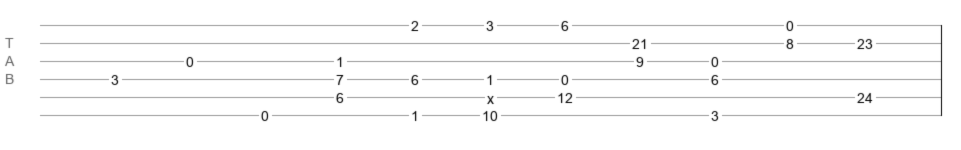0: (186, 54, 194, 64), (261, 108, 269, 118), (561, 72, 569, 82), (711, 54, 719, 64), (786, 18, 794, 28)
1: (336, 54, 344, 64), (411, 108, 419, 118), (486, 72, 494, 82)
10: (482, 108, 498, 118)
12: (557, 90, 573, 100)
2: (411, 18, 419, 28)
21: (632, 36, 648, 46)
23: (857, 36, 873, 46)
24: (857, 90, 873, 100)
3: (111, 72, 119, 82), (486, 18, 494, 28), (711, 108, 719, 118)
6: (336, 90, 344, 100), (411, 72, 419, 82), (561, 18, 569, 28), (711, 72, 719, 82)
7: (336, 72, 344, 82)
8: (786, 36, 794, 46)
9: (636, 54, 644, 64)
x: (487, 91, 494, 99)
